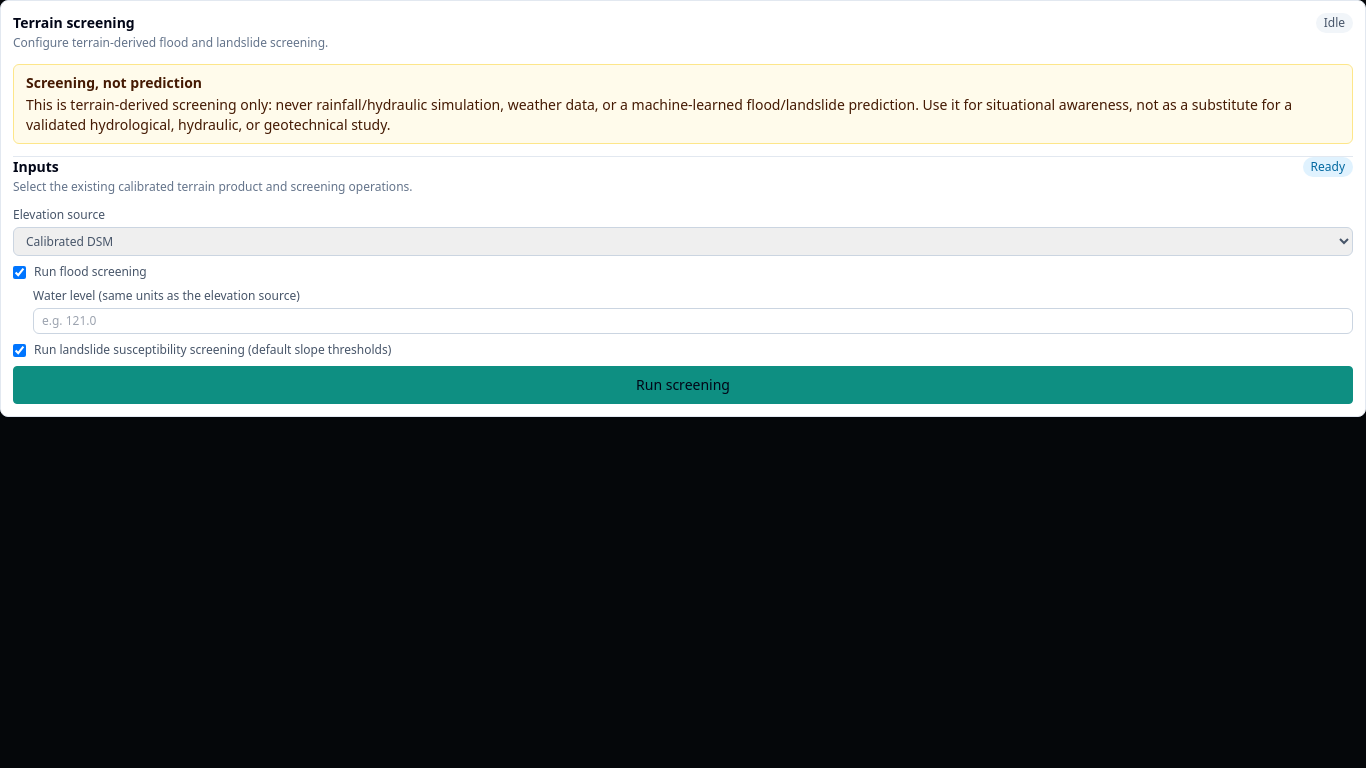
it: disaster screening state › shows processing from the real created job
Type "121" into the number field labelled "Water level (same units as the elevation source)".
click(693, 321); type("121")  # box [33,308,1353,334]
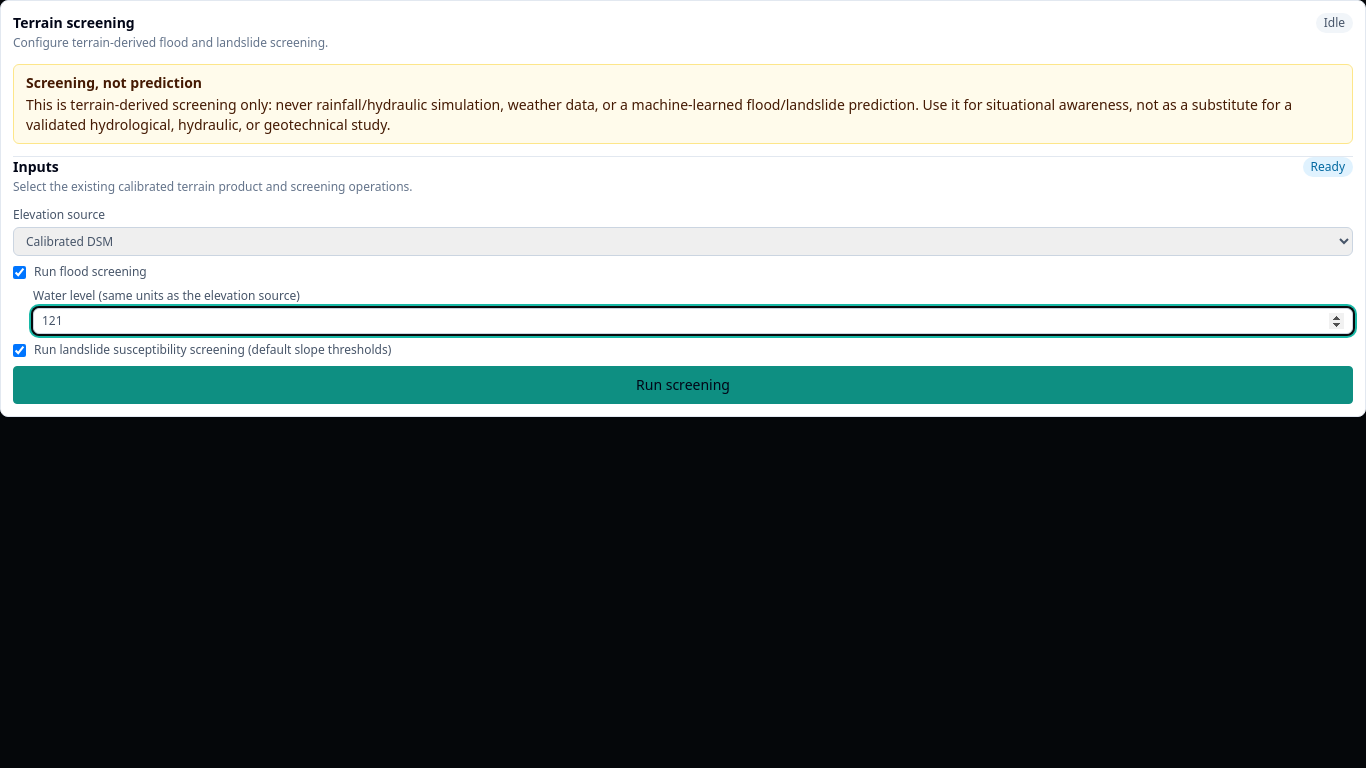
Click the button "Run screening".
click(683, 385)  # box [13,366,1353,404]
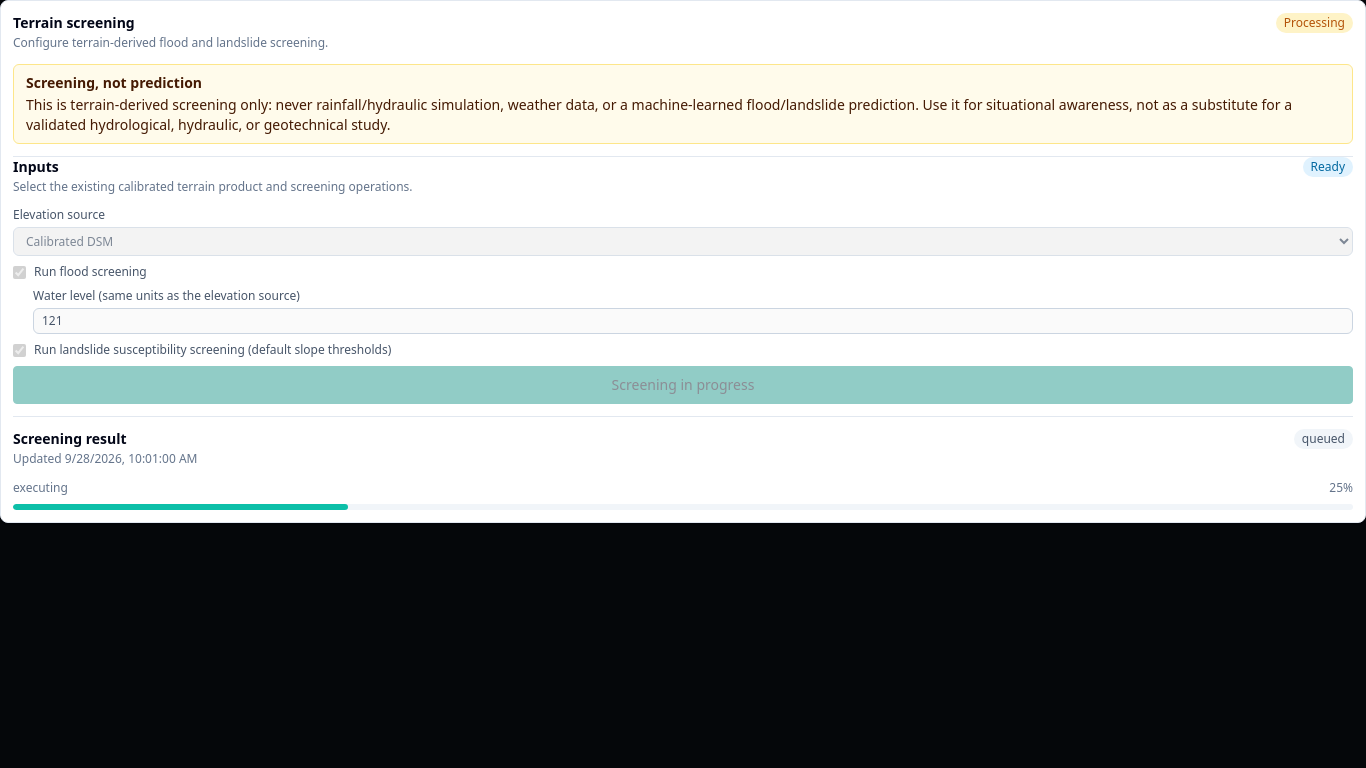
expect the text "Processing" is shown: met, box [1276,13,1353,33]
